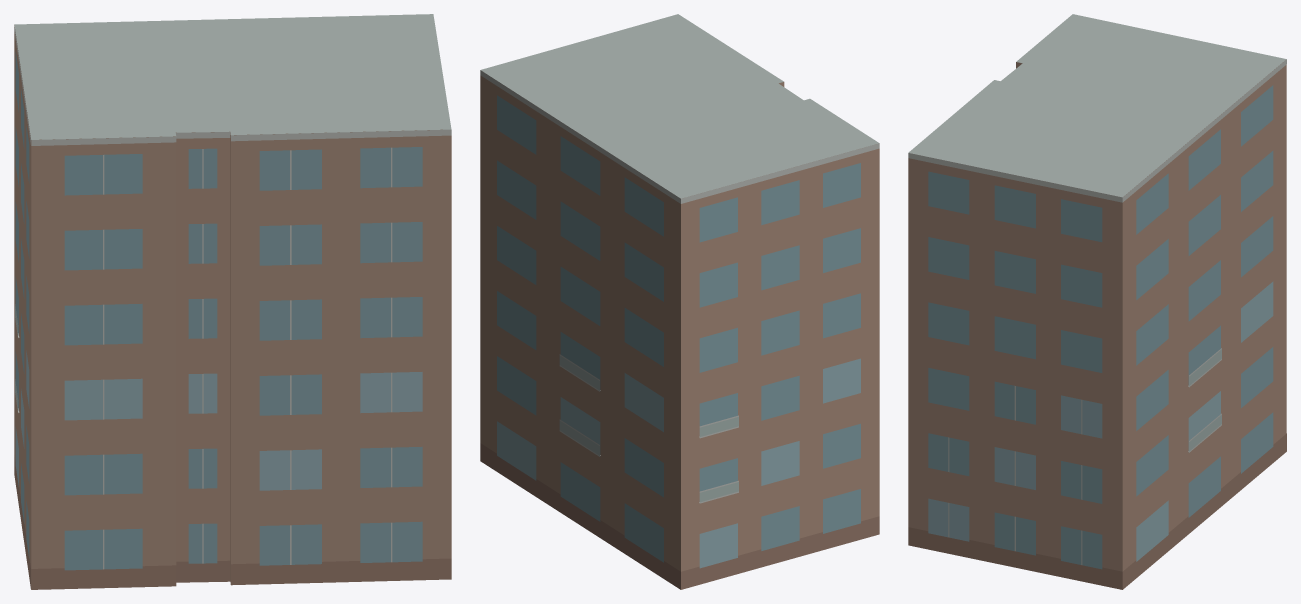
Rendered from survey-upis-32885203.glb.
3 views of the same model, side by side, from view 1: azimuth 30°, elevation 25°; view 2: azimuth 150°, elevation 25°; view 3: azimuth 270°, elevation 25° (orthographic). The views are drawn at different scales.
Visible parts, largest first — view 1: survey-upis-32885203.tmp; view 2: survey-upis-32885203.tmp; view 3: survey-upis-32885203.tmp.
Boxes of the visible parts, bbox=[...] form: survey-upis-32885203.tmp: bbox=[14, 14, 451, 589]; survey-upis-32885203.tmp: bbox=[480, 14, 879, 589]; survey-upis-32885203.tmp: bbox=[908, 14, 1286, 589].
Size of the model in its own units: 18.15 by 18.1 by 15.83.
